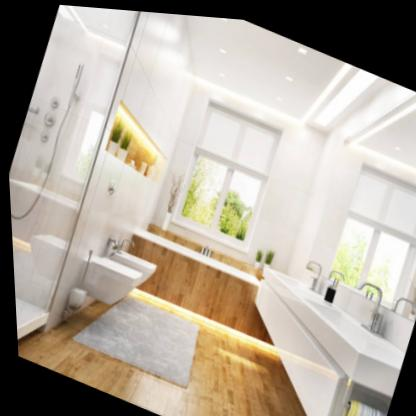Window: (164, 87, 288, 248), (319, 152, 416, 307)
